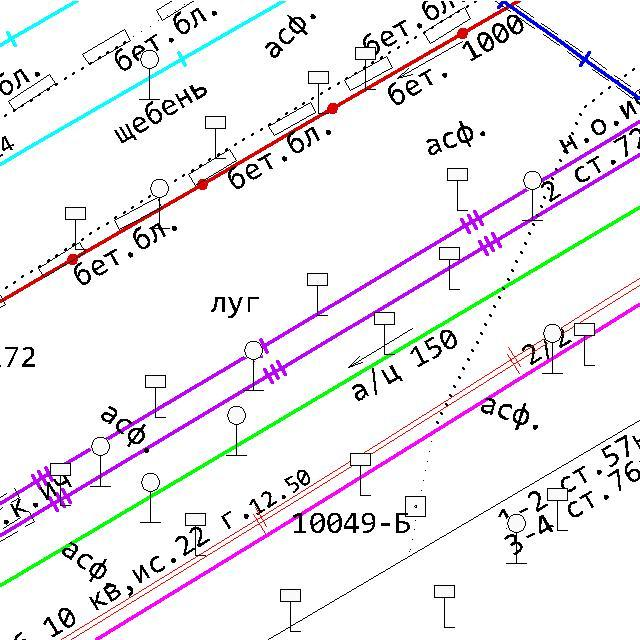asphalt: (263, 11, 318, 60), (99, 404, 151, 455), (60, 539, 111, 587), (478, 395, 540, 434), (426, 118, 487, 157)
sing: (136, 48, 162, 102), (431, 582, 458, 630), (521, 168, 544, 223), (304, 271, 330, 319), (225, 404, 248, 458), (541, 322, 564, 376), (242, 340, 265, 393), (139, 471, 162, 524), (505, 512, 528, 565), (63, 204, 88, 252), (143, 373, 168, 421), (89, 436, 112, 488), (306, 69, 331, 116), (353, 45, 378, 92), (183, 511, 208, 558), (545, 486, 570, 533), (572, 321, 597, 368), (148, 177, 170, 230), (203, 114, 228, 160), (437, 246, 462, 292), (446, 166, 470, 212), (49, 460, 72, 508), (349, 452, 372, 498), (279, 587, 302, 633)
